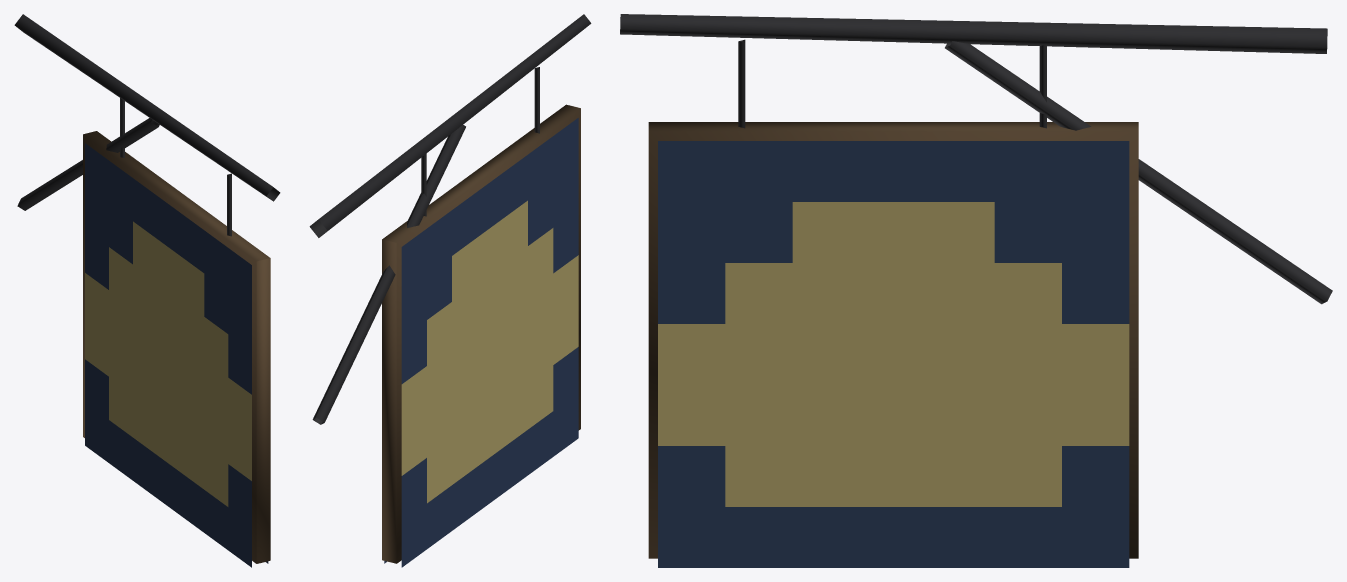
The model's file is insegna-pane.glb.
The picture shows the model from 3 angles, left to right: view 1: azimuth 30°, elevation 25°; view 2: azimuth 150°, elevation 25°; view 3: azimuth 270°, elevation 25°; orthographic projection. The views are drawn at different scales.
Parts seen in each view (by area): view 1: insegna-pane; view 2: insegna-pane; view 3: insegna-pane.
Part boxes in pixels (<box>): insegna-pane: <box>14,14,280,567</box>; insegna-pane: <box>309,14,591,567</box>; insegna-pane: <box>620,14,1332,567</box>.
Size of the model in its own units: 0.03 by 0.642 by 0.7563.
